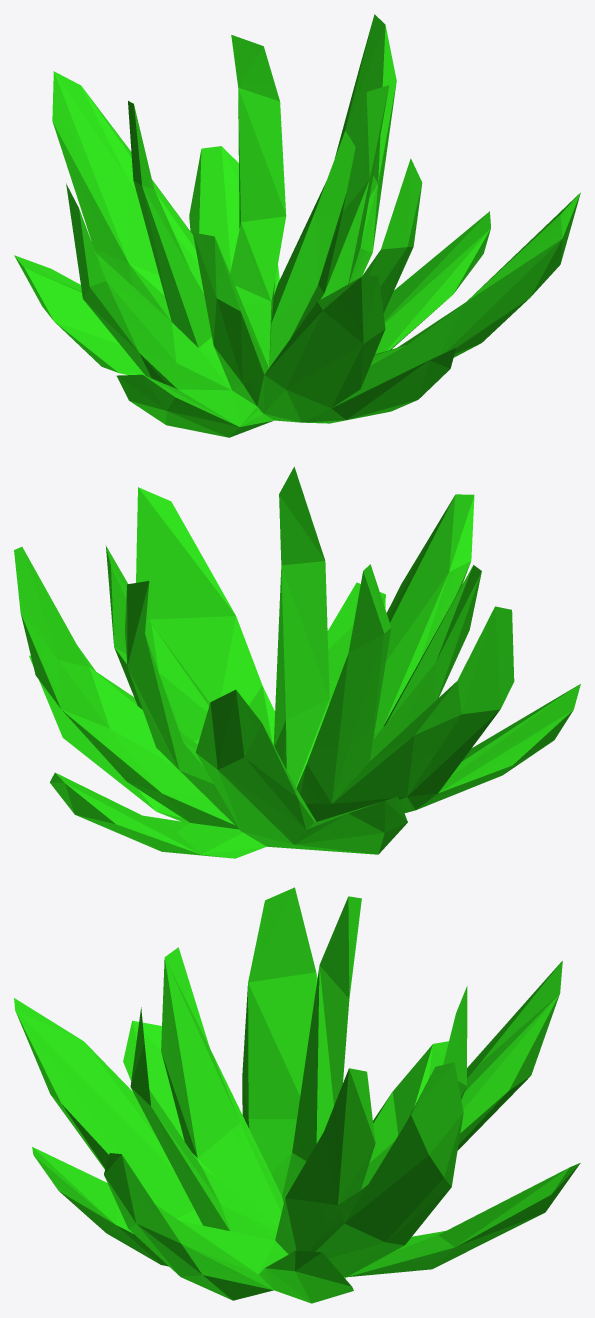
File: aloeLP.fbx
The picture shows the model from 3 angles, top to bottom: view 1: azimuth 30°, elevation 25°; view 2: azimuth 150°, elevation 25°; view 3: azimuth 270°, elevation 25°; orthographic projection. The views are drawn at different scales.
Parts seen in each view (by area): view 1: Aloe; view 2: Aloe; view 3: Aloe.
Part boxes in pixels (x1,y1,x2,y2): Aloe: [14, 14, 580, 437]; Aloe: [14, 466, 580, 858]; Aloe: [14, 887, 580, 1303].
Bounding box in the file's own units: 90.72 × 60.12 × 97.03.
